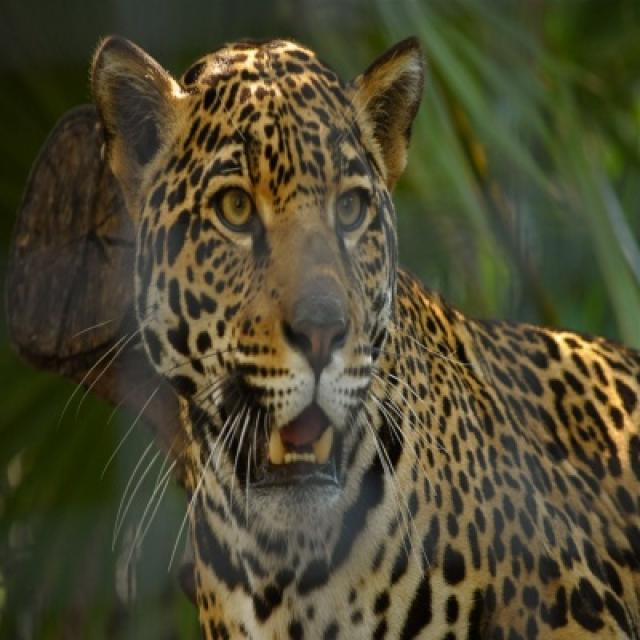Jaguar: (32, 37, 638, 638)
